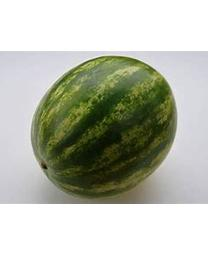watermelon: (30, 56, 178, 198)
